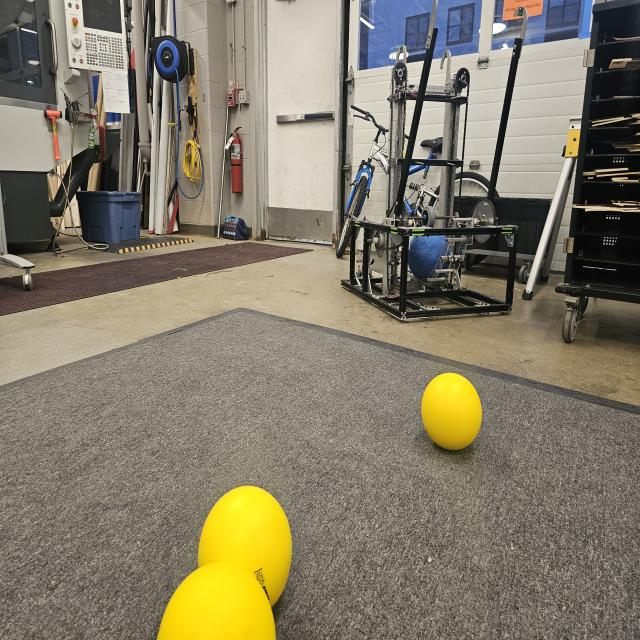Fuel: (198, 484, 292, 616), (157, 559, 276, 640), (422, 371, 483, 450)
